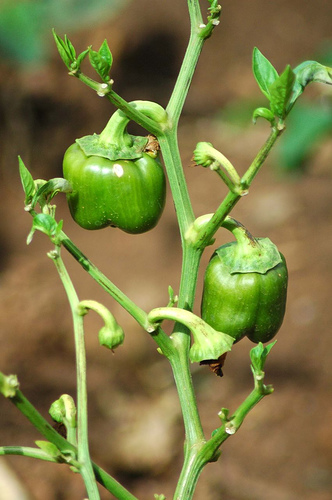capsicum: (61, 132, 169, 235), (199, 236, 288, 345)
